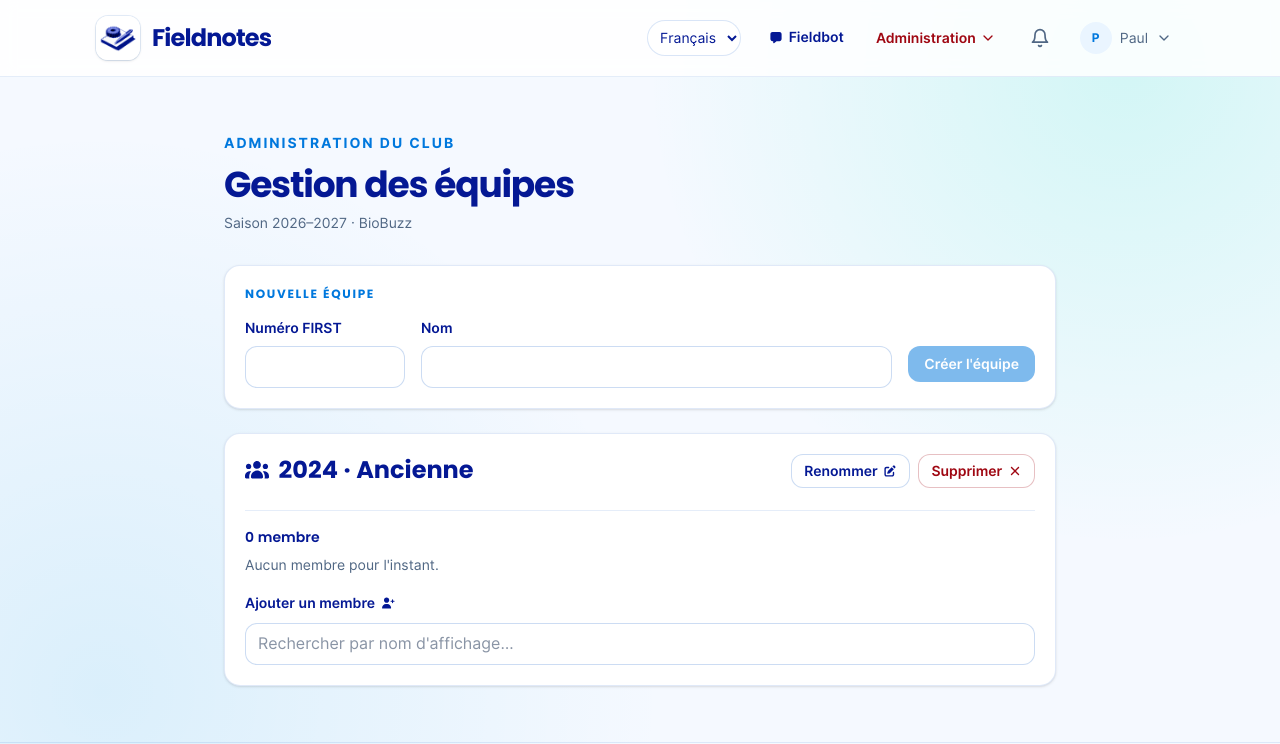
Test case: shows why the server refused to delete a team
Click the button "Supprimer": [977, 471] box [918,454,1035,488]
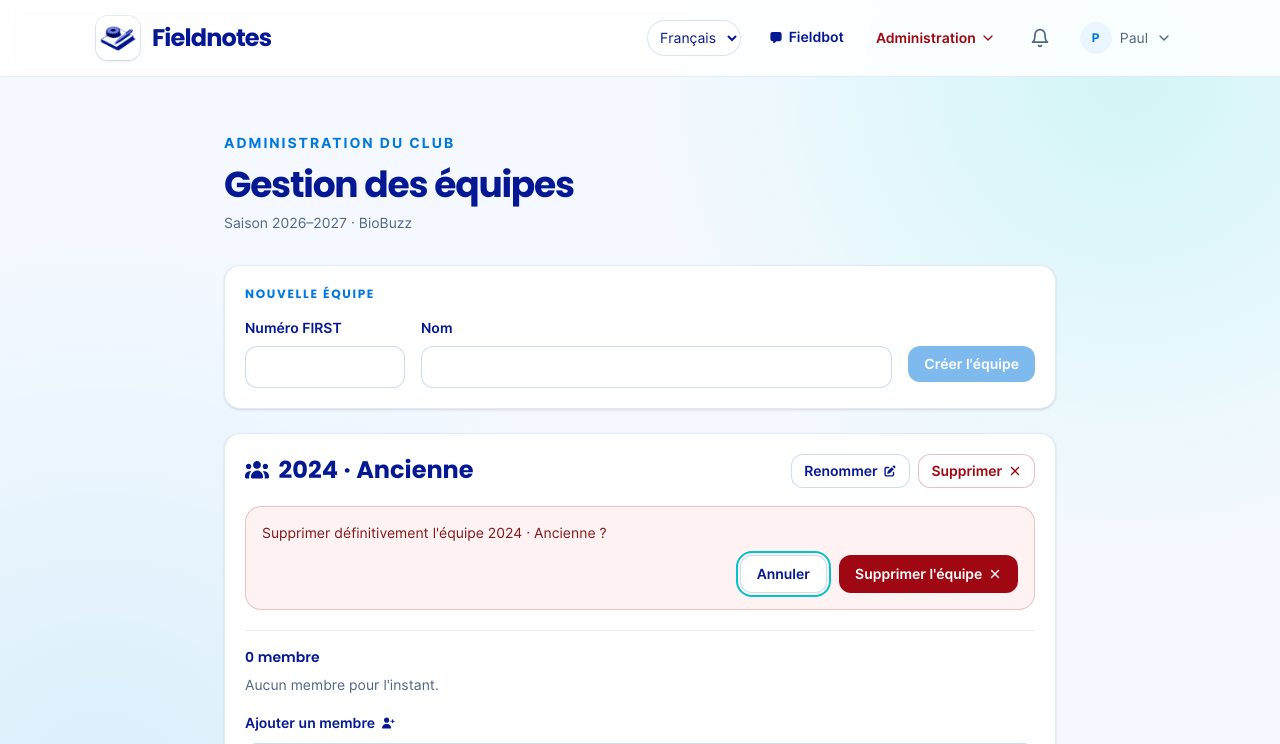
Click the button "Supprimer l'équipe": [929, 574] box [839,555,1018,593]
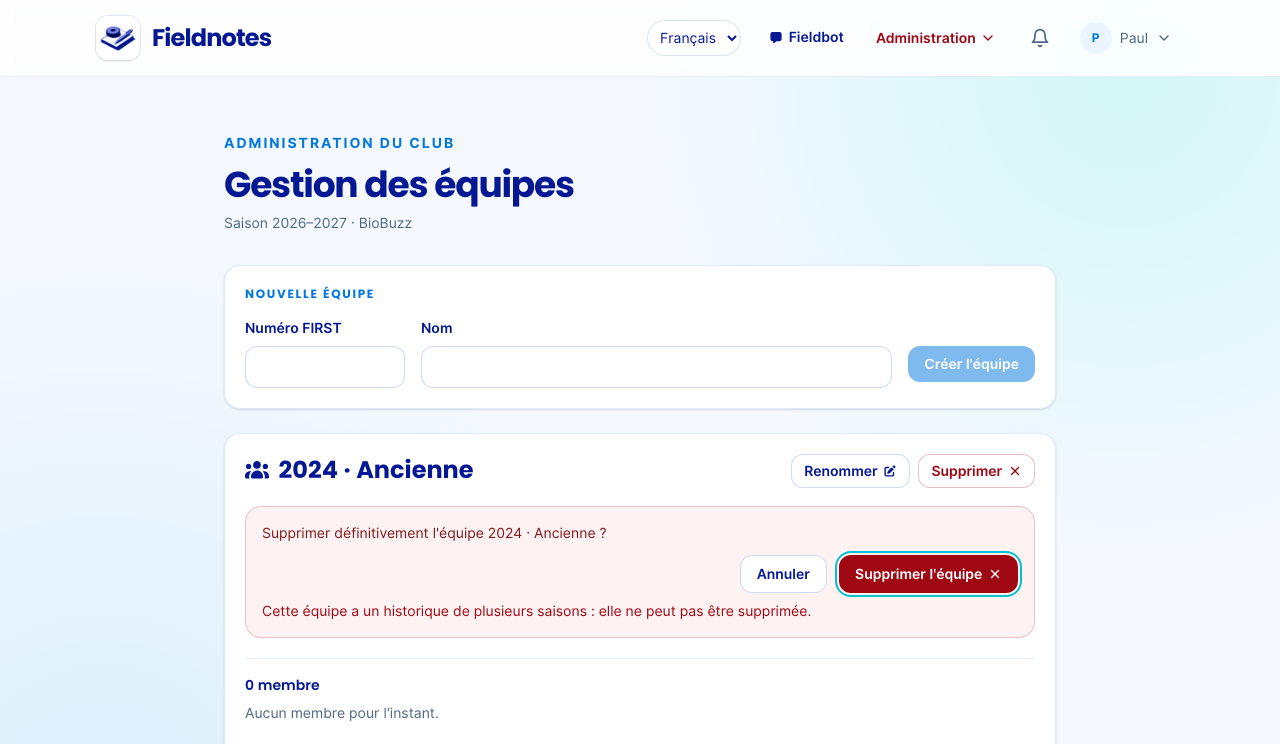
Now the text "Cette équipe a un historique de plusieurs saisons : elle ne peut pas être supprimée." is shown, box [262,603,811,619]
